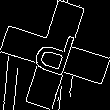P_S: (29, 25, 81, 85)
